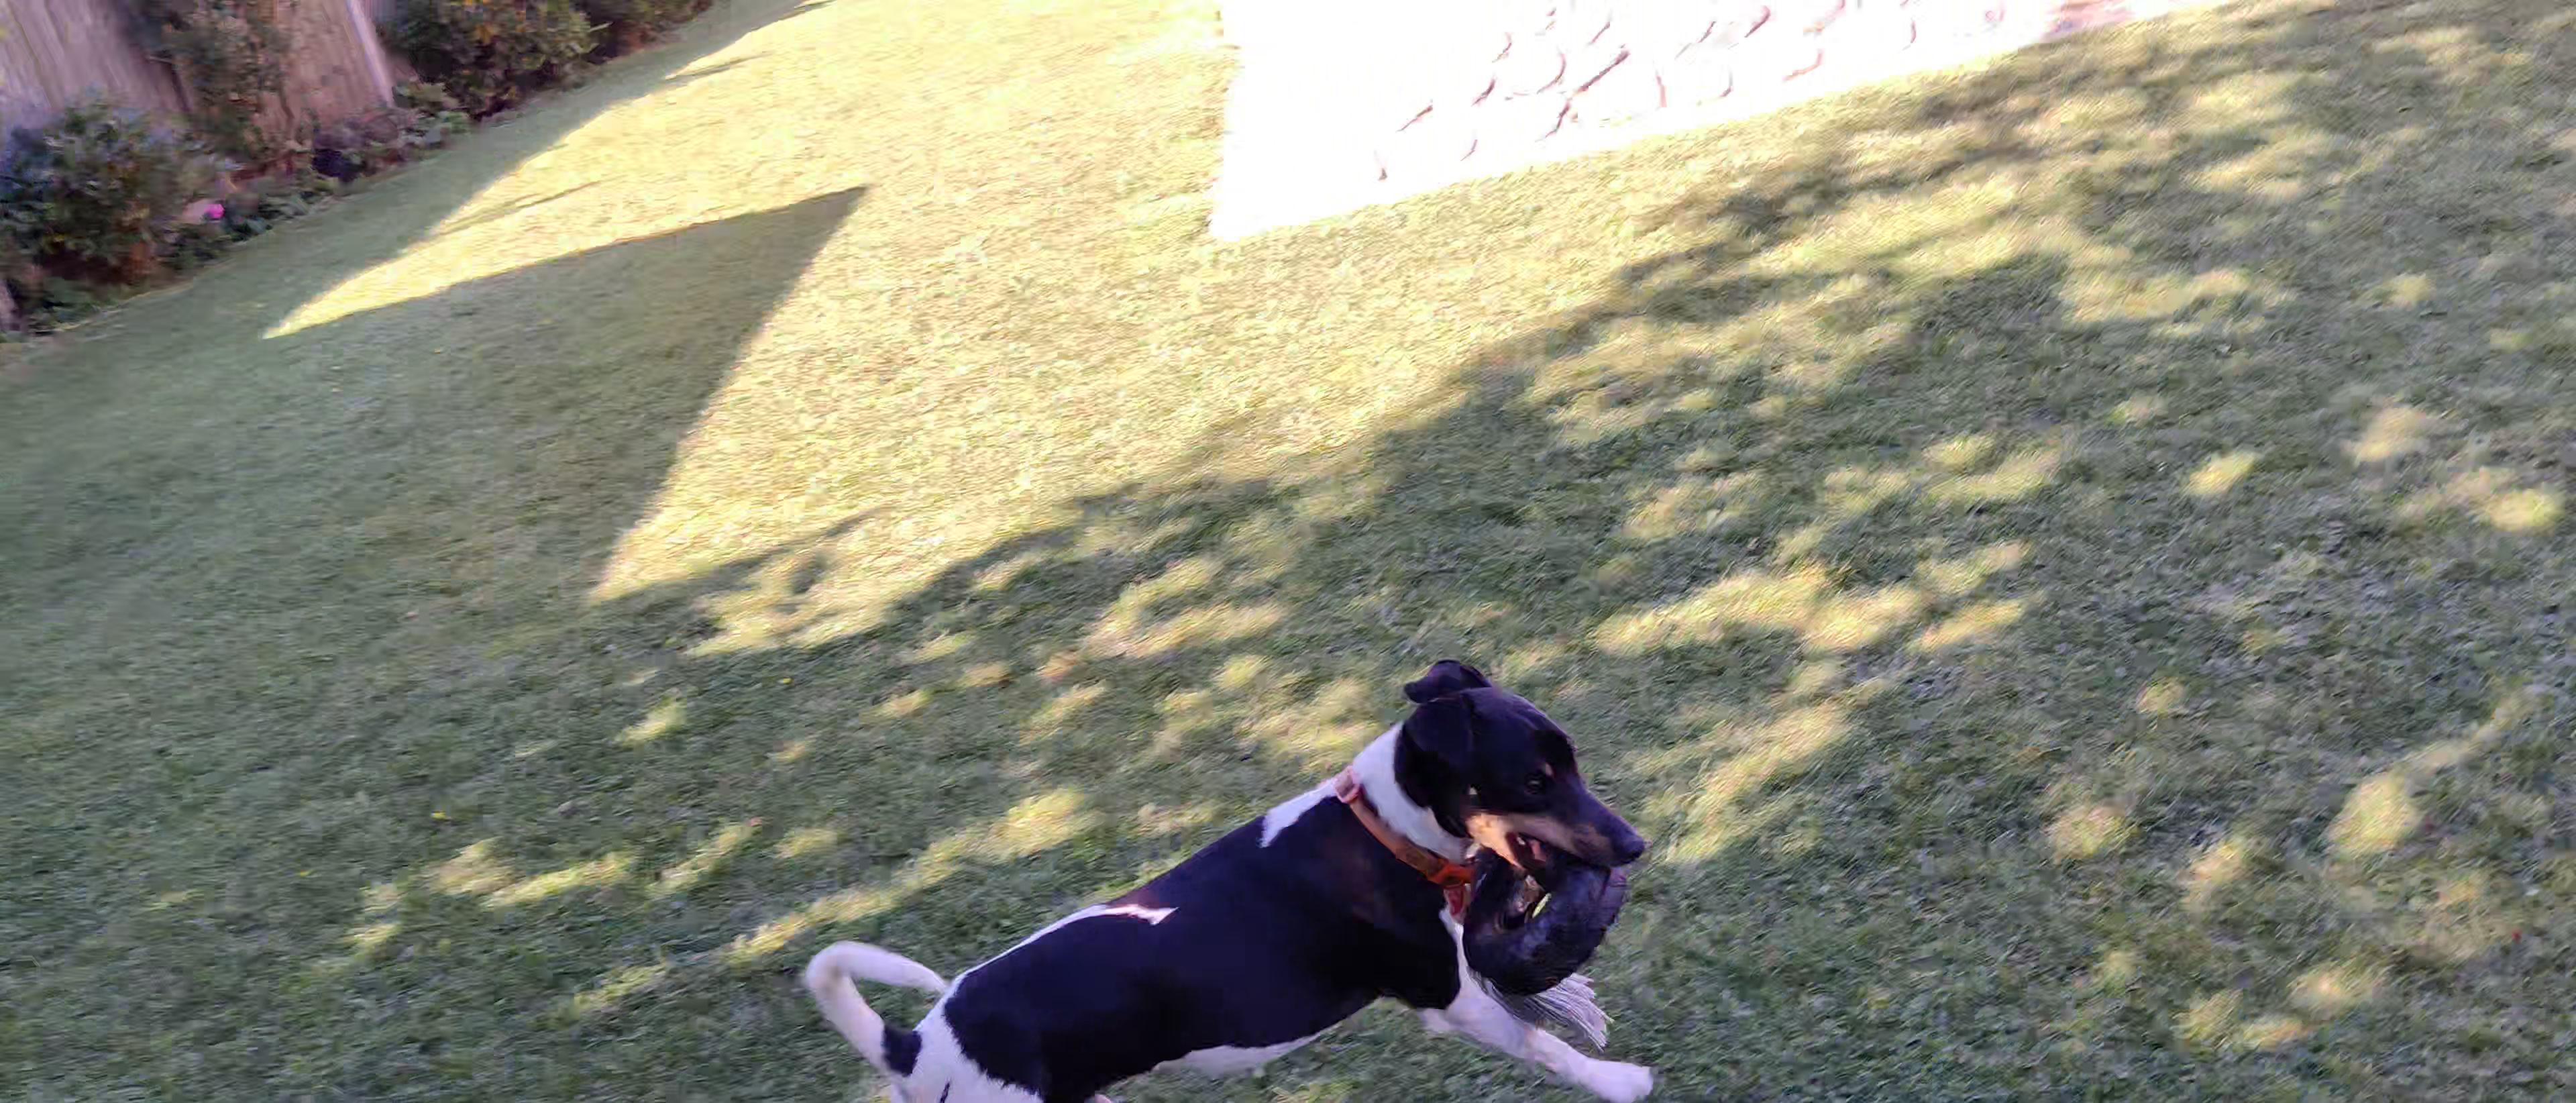Dog: (784, 646, 1679, 1103)
